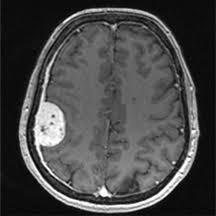Tumour-Meningioma: (35, 91, 86, 152)
